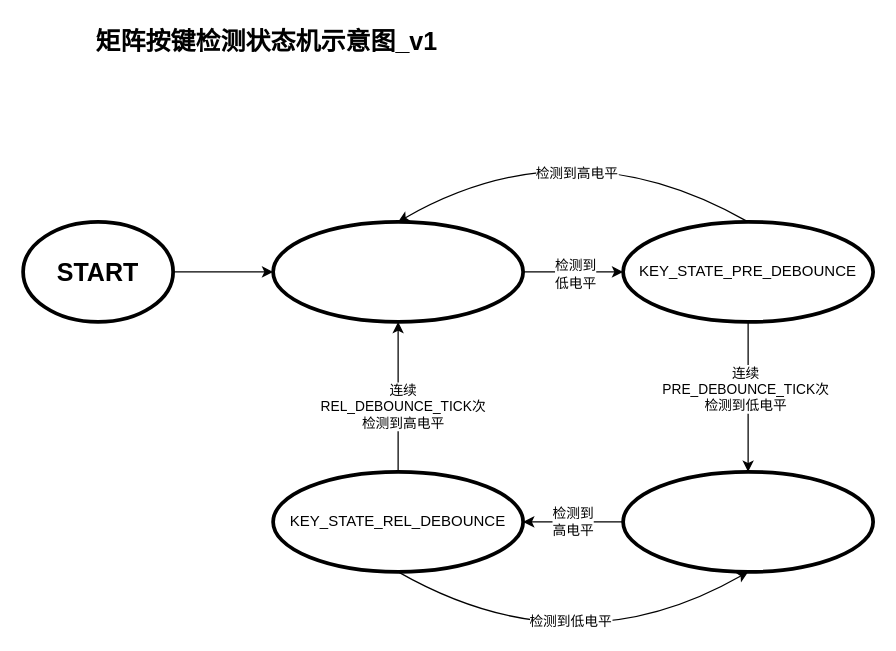
Image size: 896x651. Some labels were removed from this diagram. The centre of each missing label's shape, as x and y in pixels:
"KEY_STATE_IDLE" goes at [397,271].
"KEY_STATE_PRESS" goes at [747,521].
